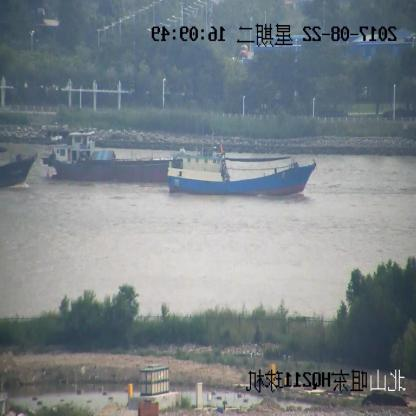Fishing Boat: (168, 139, 314, 195), (0, 144, 36, 188)
